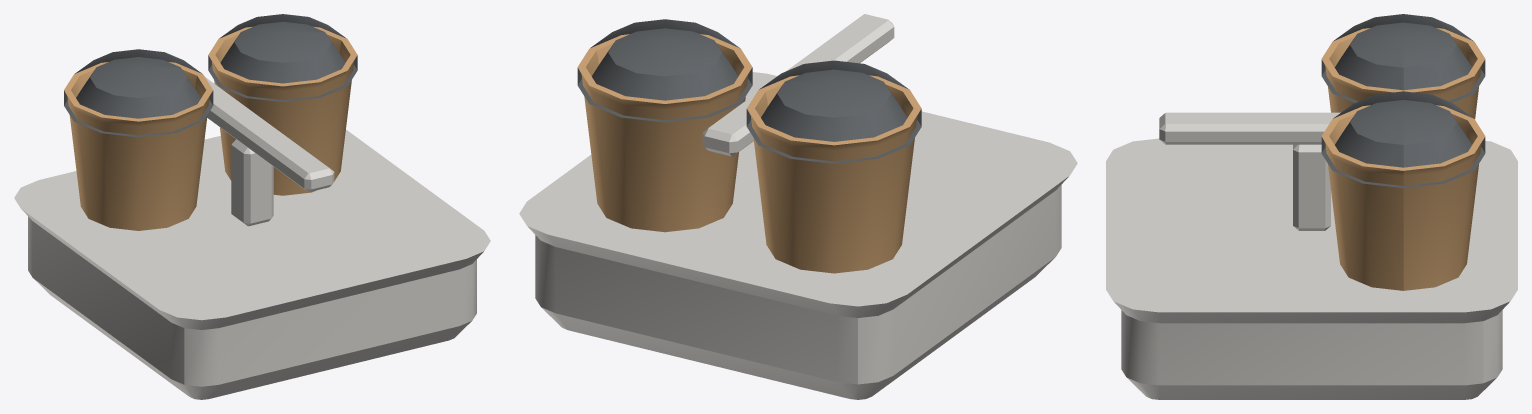
Rendered from bakery-and-cafe-cup-carrier-4-116ab381__22229.glb.
The picture shows the model from 3 angles, left to right: view 1: azimuth 30°, elevation 25°; view 2: azimuth 150°, elevation 25°; view 3: azimuth 270°, elevation 25°; orthographic projection. The views are drawn at different scales.
Visible parts, largest first — view 1: cup-carrier-4; view 2: cup-carrier-4; view 3: cup-carrier-4.
Part boxes in pixels (bbox=[...]): cup-carrier-4: bbox=[14, 14, 490, 399]; cup-carrier-4: bbox=[519, 14, 1077, 399]; cup-carrier-4: bbox=[1106, 14, 1517, 399].
Size of the model in its own units: 0.216 by 0.152 by 0.216.
